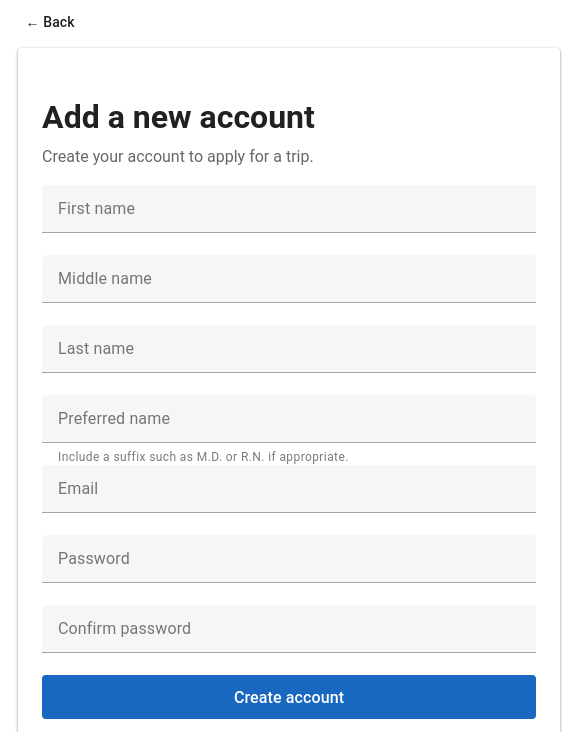
Feature 1 — Apply create account › US-1.1 — Register an account › User registers with password too short
Type "Jane" into the field labelled "First name" at (289, 209), box [42,185,536,233]
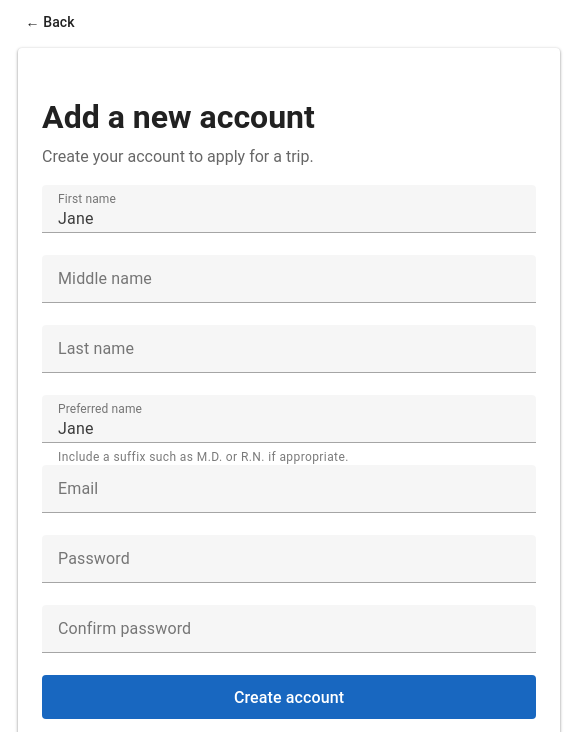
Type "Doe" into the field labelled "Last name" at (289, 349), box [42,325,536,373]
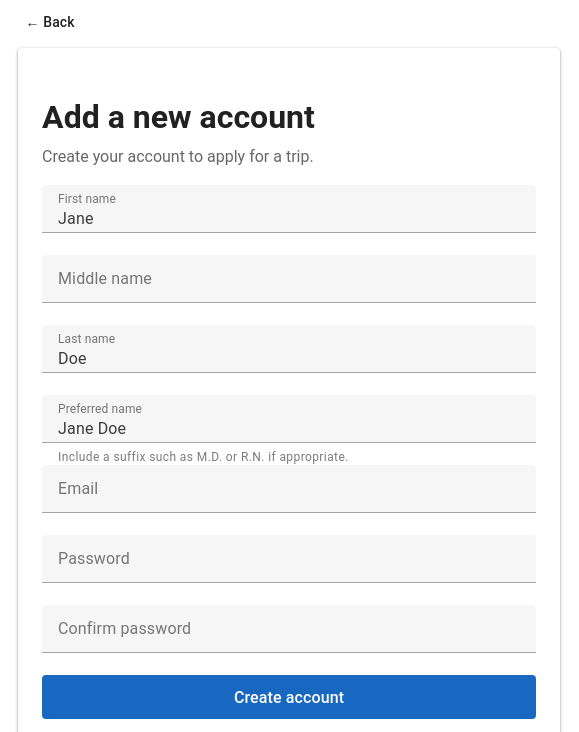
Type "jane@example.com" into the field labelled "Email" at (289, 489), box [42,465,536,513]
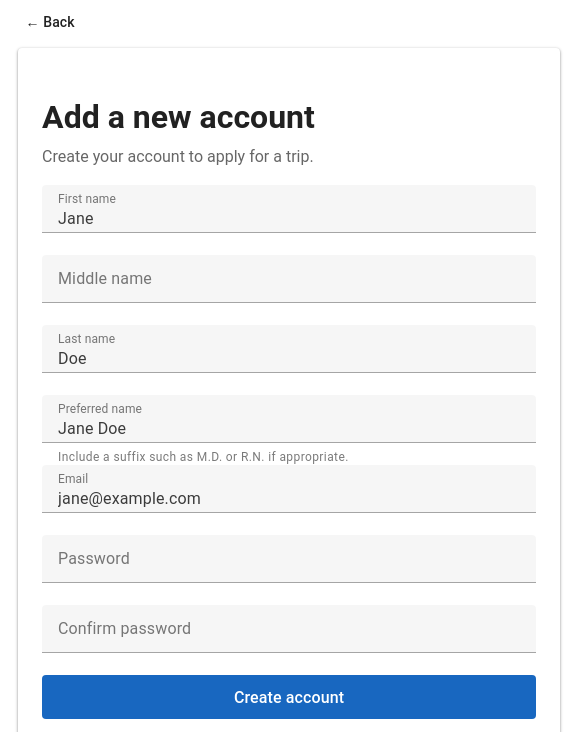
Type "short" into the password field labelled "Password" at (289, 559), box [42,535,536,583]
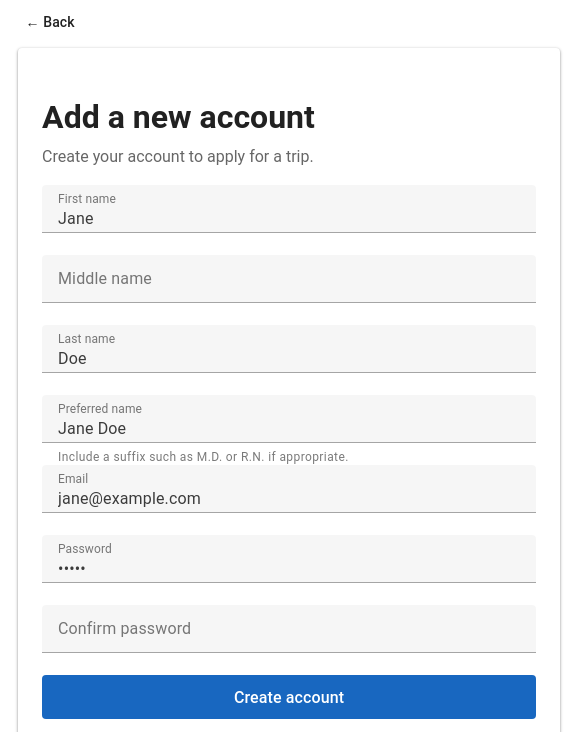
Type "short" into the password field labelled "Confirm password" at (289, 629), box [42,605,536,653]
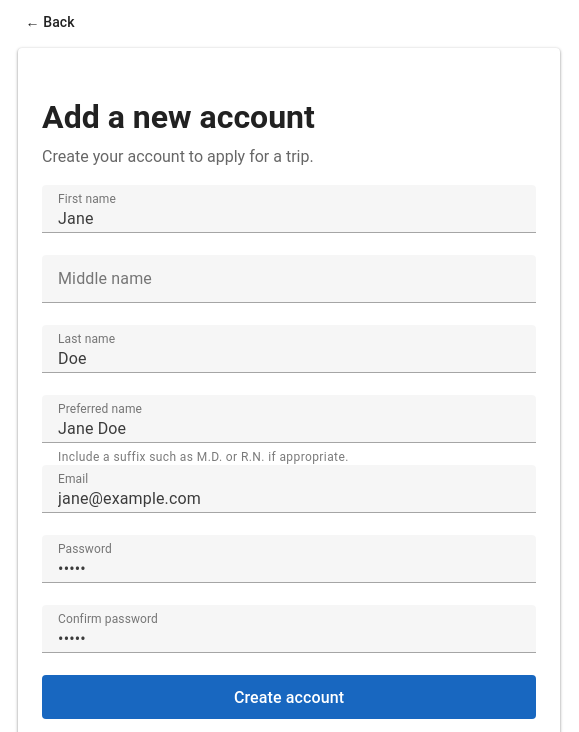
Submit the form
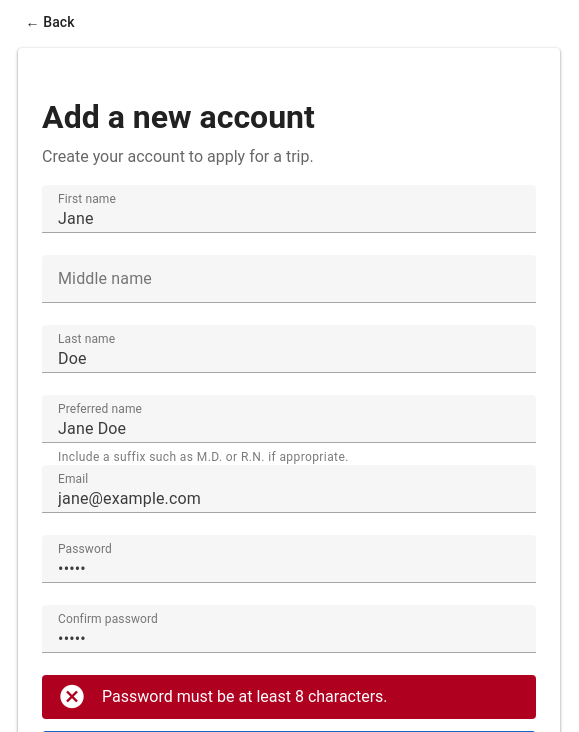
Result: the text "at least 8 characters" is shown at [102,687,388,706]
